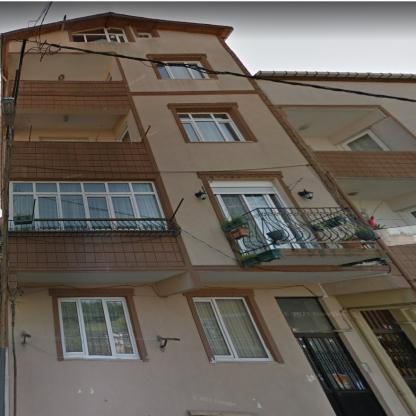door: (300, 336, 386, 414), (377, 330, 415, 400)
window: (13, 183, 166, 228), (195, 298, 267, 358), (61, 299, 137, 354), (215, 192, 288, 221), (178, 113, 241, 141), (280, 298, 331, 329), (74, 27, 127, 41), (156, 63, 204, 78), (345, 135, 384, 150), (121, 130, 132, 142), (139, 33, 150, 37)
